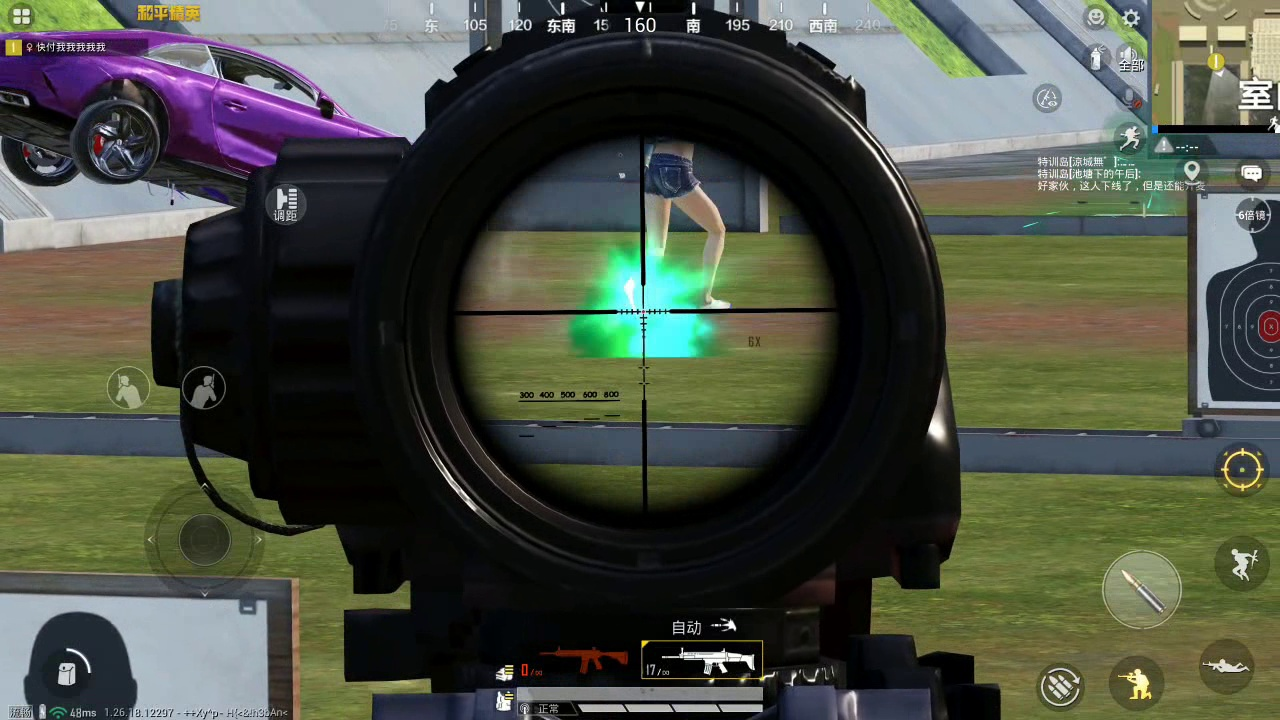enemy: (620, 127, 735, 318)
